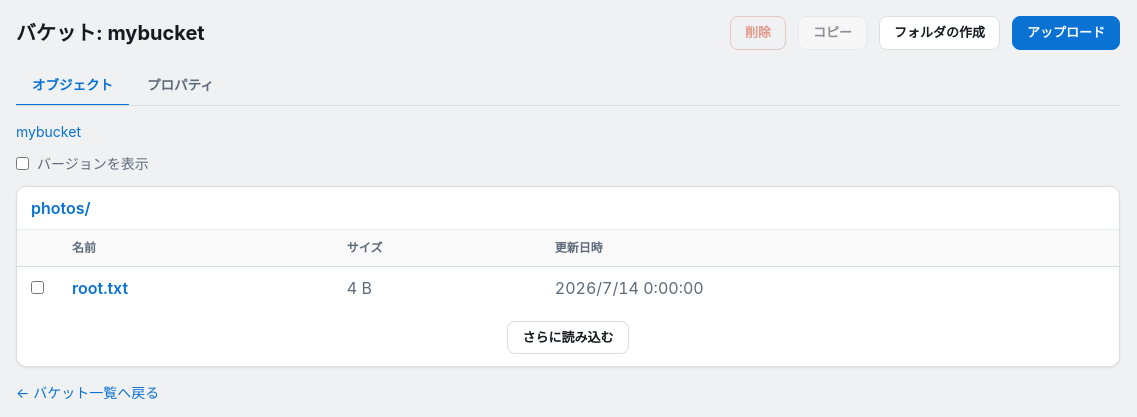
Scenario: BucketBrowserPage › loads more when a continuation token is present
Click the button with test id "objects-more": [568, 338] box left=508, top=321, right=628, bottom=354
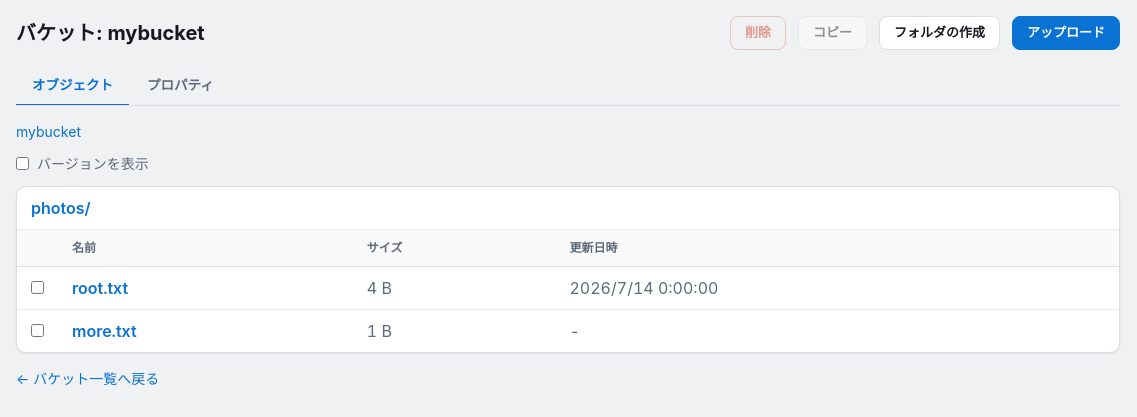
Expected: the button with test id "object-row-more.txt" is shown, left=72, top=319, right=137, bottom=343
